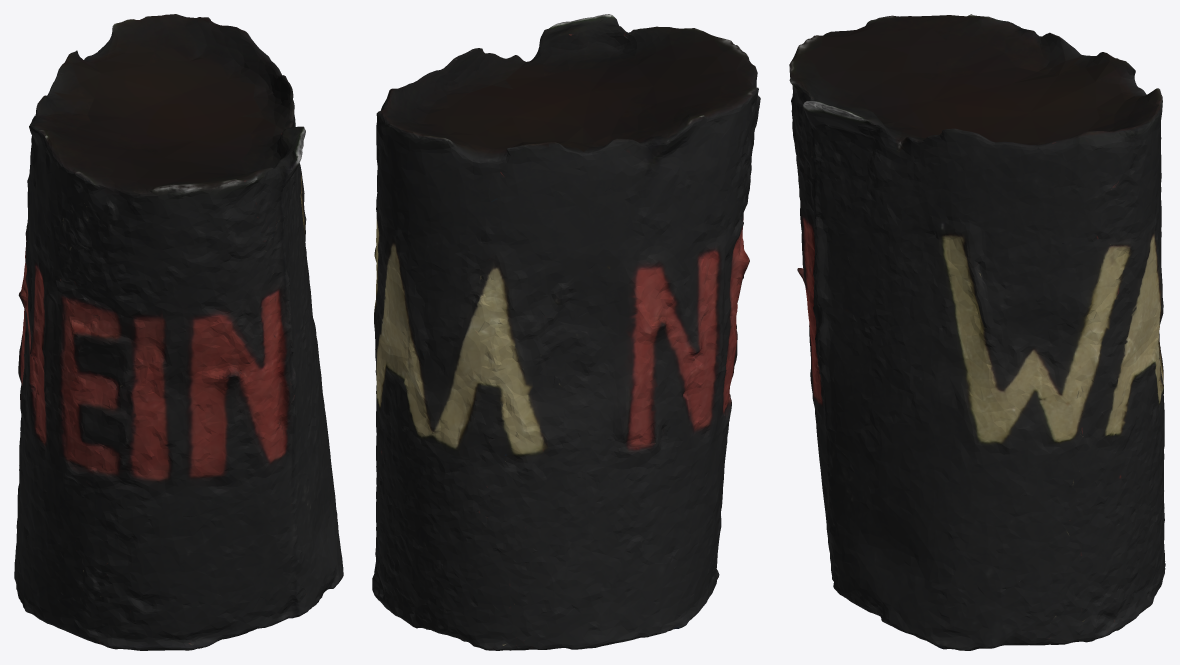
File: 2FD8A37A-2133-AC47-9AC9-33FBA0AB5ED9_2k.glb
3 renders of one model, left to right at view 1: azimuth 30°, elevation 25°; view 2: azimuth 150°, elevation 25°; view 3: azimuth 270°, elevation 25°, orthographic.
Visible parts, largest first — view 1: WAA Laterne_2k; view 2: WAA Laterne_2k; view 3: WAA Laterne_2k.
Part boxes in pixels (bbox=[...]): WAA Laterne_2k: bbox=[14, 14, 343, 650]; WAA Laterne_2k: bbox=[372, 14, 760, 650]; WAA Laterne_2k: bbox=[789, 14, 1165, 650].
Bounding box in the file's own units: 0.0944 × 0.1542 × 0.1011.
Materials: 1 (1 with a texture image).
